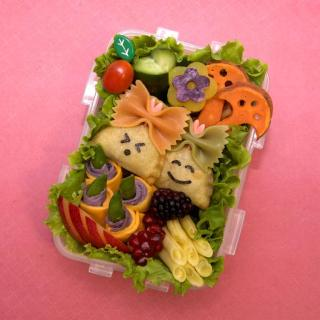tomato: (102, 54, 138, 84)
